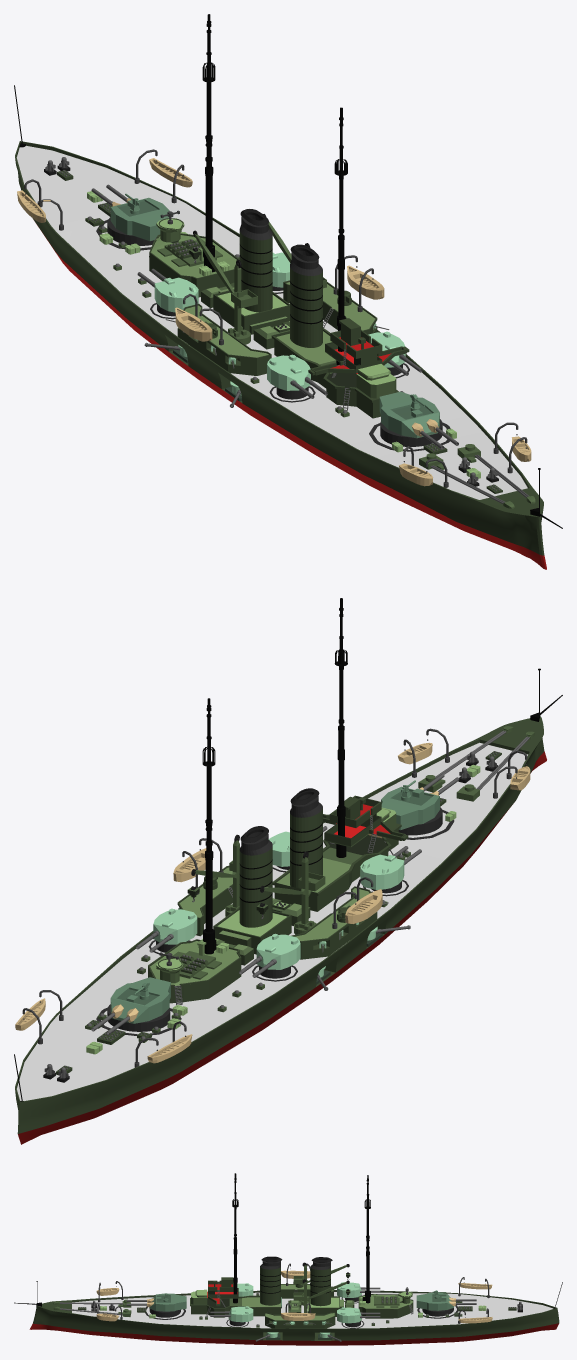
The model's file is NewBattleship.fbx.
The picture shows the model from 3 angles, top to bottom: view 1: azimuth 30°, elevation 25°; view 2: azimuth 150°, elevation 25°; view 3: azimuth 270°, elevation 25°; orthographic projection. The views are drawn at different scales.
Visible parts, largest first — view 1: Base, MainCenter, Chimney, CommandLookout, LookoutWithTurrets1, GreatGunHead.001, GreatGunHead, Crane1, LookoutWithTurrets2, MediumGunHead.003, FrontDeco, MediumGunHead (+6 smaller); view 2: Base, MainCenter, Chimney, LookoutWithTurrets1, CommandLookout, GreatGunHead, GreatGunHead.001, LookoutWithTurrets2, Crane1, MediumGunHead.003, MediumGunHead, MediumGunHead.001 (+10 smaller); view 3: Base, MainCenter, Chimney, LookoutWithTurrets2, GreatGunHead, GreatGunHead.001, CommandLookout, FrontDeco, Crane1.001, MediumGunHead.002, MediumGunHead.001, LookoutWithTurrets1 (+7 smaller).
Boxes of the visible parts, left/top/right/bottom form: Base: left=15, top=141, right=546, bottom=569; MainCenter: left=14, top=14, right=562, bottom=528; Chimney: left=213, top=209, right=289, bottom=334; CommandLookout: left=308, top=318, right=409, bottom=375; LookoutWithTurrets1: left=177, top=304, right=271, bottom=375; GreatGunHead.001: left=379, top=391, right=439, bottom=438; GreatGunHead: left=110, top=193, right=169, bottom=240; Crane1: left=189, top=230, right=257, bottom=344; LookoutWithTurrets2: left=283, top=280, right=377, bottom=334; MediumGunHead.003: left=267, top=354, right=310, bottom=390; FrontDeco: left=419, top=444, right=535, bottom=508; MediumGunHead: left=154, top=277, right=198, bottom=312; Base: left=15, top=716, right=546, bottom=1144; MainCenter: left=14, top=598, right=562, bottom=1101; Chimney: left=213, top=826, right=291, bottom=954; LookoutWithTurrets1: left=291, top=886, right=377, bottom=959; CommandLookout: left=323, top=795, right=408, bottom=846; GreatGunHead: left=110, top=977, right=170, bottom=1023; GreatGunHead.001: left=381, top=780, right=439, bottom=830; LookoutWithTurrets2: left=177, top=865, right=232, bottom=936; Crane1: left=256, top=851, right=325, bottom=934; MediumGunHead.003: left=360, top=854, right=404, bottom=889; MediumGunHead: left=256, top=933, right=300, bottom=969; MediumGunHead.001: left=153, top=908, right=197, bottom=944; Base: left=29, top=1290, right=559, bottom=1345; MainCenter: left=14, top=1173, right=562, bottom=1318; Chimney: left=307, top=1257, right=343, bottom=1316; LookoutWithTurrets2: left=265, top=1312, right=335, bottom=1328; GreatGunHead: left=416, top=1290, right=453, bottom=1310; GreatGunHead.001: left=149, top=1293, right=186, bottom=1311; CommandLookout: left=208, top=1277, right=238, bottom=1306; FrontDeco: left=53, top=1299, right=131, bottom=1316; Crane1.001: left=293, top=1279, right=350, bottom=1312; MediumGunHead.002: left=228, top=1306, right=253, bottom=1322; MediumGunHead.001: left=337, top=1307, right=361, bottom=1323; LookoutWithTurrets1: left=281, top=1282, right=333, bottom=1298.
Bounding box in the file's own units: 442 × 694 × 2210.
Materials: 2 (1 with a texture image).
